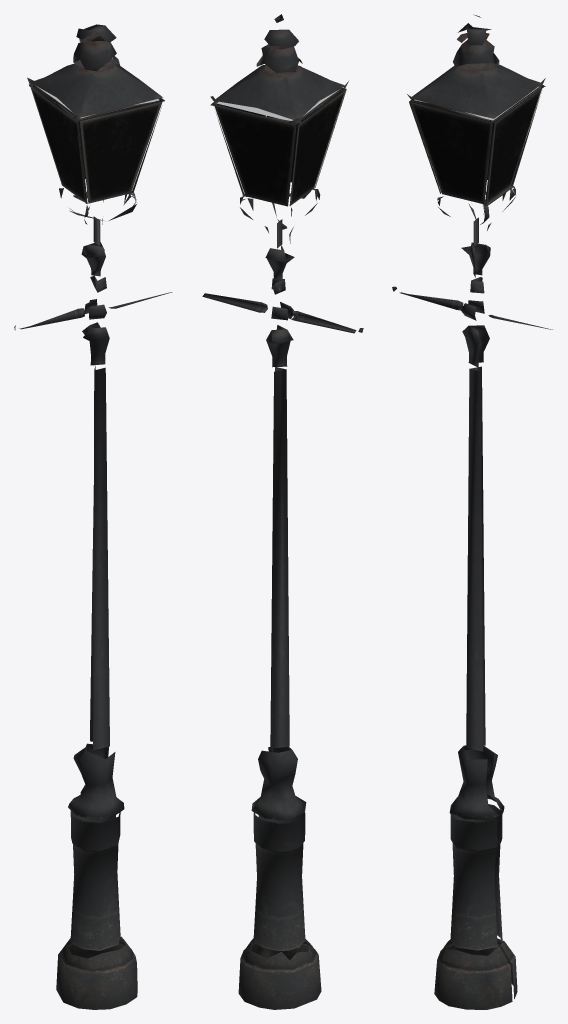
Rendered from street_lamp_01_1k.gltf.
The picture shows the model from 3 angles, left to right: view 1: azimuth 30°, elevation 25°; view 2: azimuth 150°, elevation 25°; view 3: azimuth 330°, elevation 25°; orthographic projection.
Visible parts, largest first — view 1: street_lamp_01; view 2: street_lamp_01; view 3: street_lamp_01.
Boxes of the visible parts, left/top/right/bottom form: street_lamp_01: left=14, top=24, right=172, bottom=1009; street_lamp_01: left=202, top=14, right=363, bottom=1009; street_lamp_01: left=392, top=14, right=552, bottom=1009.
Size of the model in its own units: 0.6523 by 3.83 by 0.3657.
3 materials, 3 textured.
